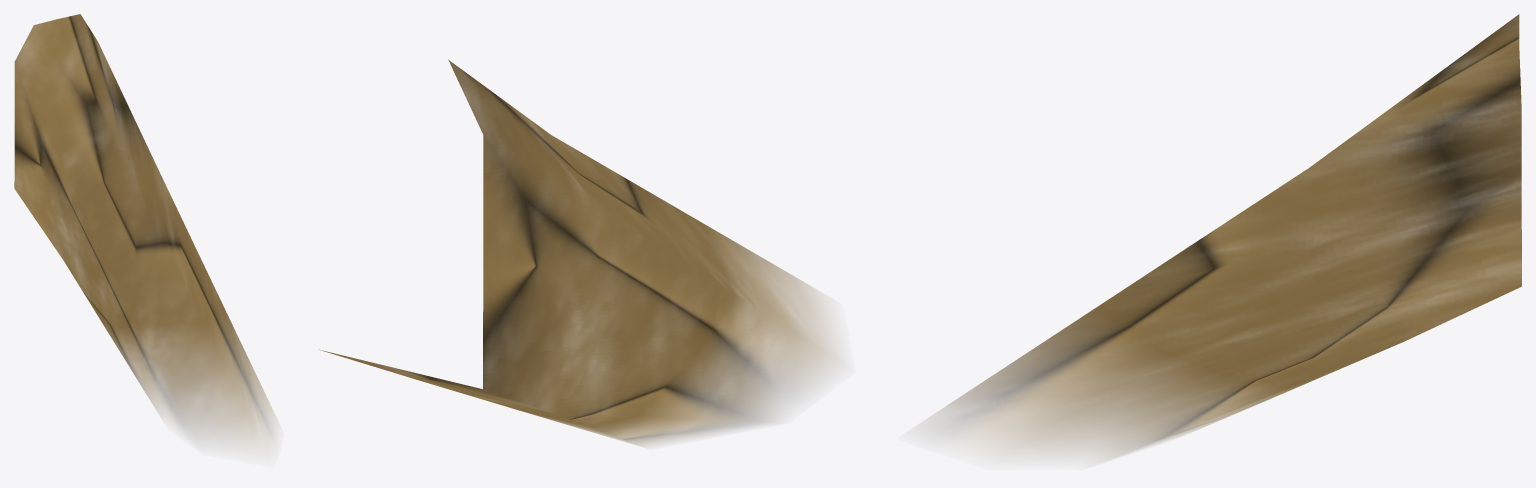
Rendered from sunshafts.glb.
The picture shows the model from 3 angles, left to right: view 1: azimuth 30°, elevation 25°; view 2: azimuth 150°, elevation 25°; view 3: azimuth 270°, elevation 25°; orthographic projection. The views are drawn at different scales.
Visible parts, largest first — view 1: sunshafts; view 2: sunshafts; view 3: sunshafts.
Part boxes in pixels (left/top/right/bottom): sunshafts: left=14, top=14, right=276, bottom=445; sunshafts: left=319, top=59, right=840, bottom=446; sunshafts: left=931, top=14, right=1521, bottom=458.
Size of the model in its own units: 40.99 by 137 by 189.
1 material, 1 textured.
